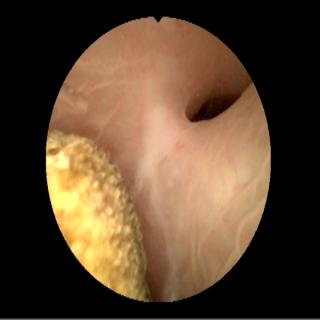stone: (47, 130, 150, 298)
tissue: (53, 20, 266, 297)
